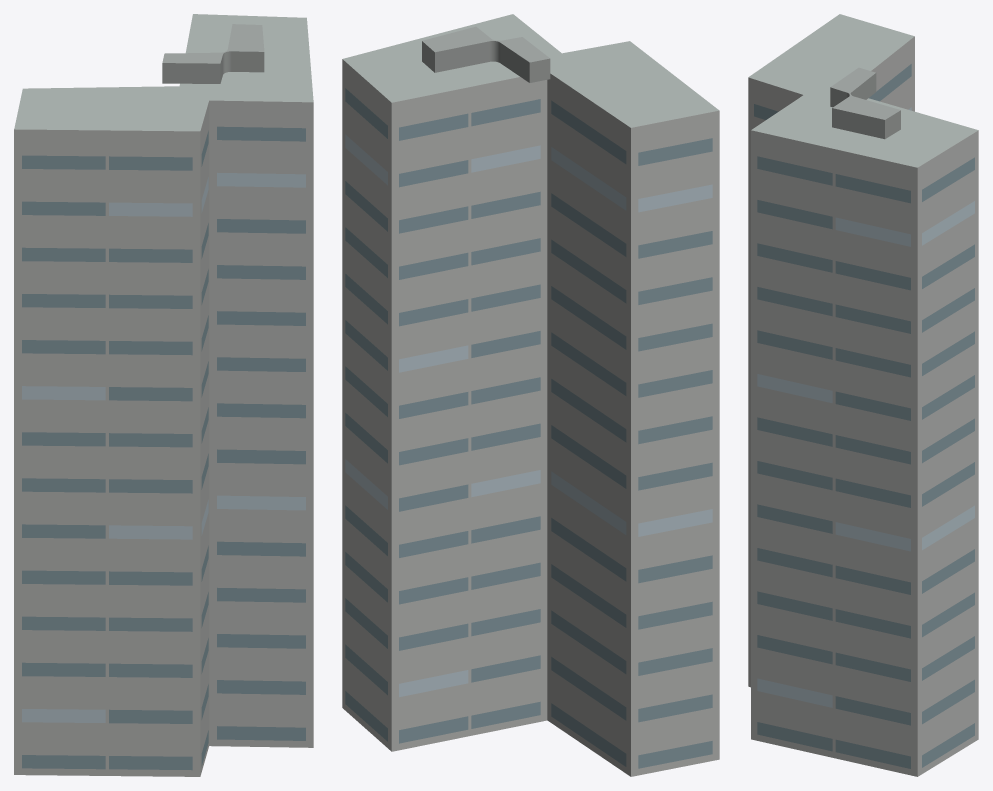
File: fallback-jamsil-parkrio-204.glb
The picture shows the model from 3 angles, left to right: view 1: azimuth 30°, elevation 25°; view 2: azimuth 150°, elevation 25°; view 3: azimuth 270°, elevation 25°; orthographic projection. The views are drawn at different scales.
Visible parts, largest first — view 1: fallback-jamsil-parkrio-204; view 2: fallback-jamsil-parkrio-204; view 3: fallback-jamsil-parkrio-204.
Boxes of the visible parts, x1=… form: fallback-jamsil-parkrio-204: x1=14, y1=14, x2=313, y2=776; fallback-jamsil-parkrio-204: x1=342, y1=14, x2=719, y2=776; fallback-jamsil-parkrio-204: x1=748, y1=14, x2=978, y2=776.
Size of the model in its own units: 40.93 by 78 by 25.94.
